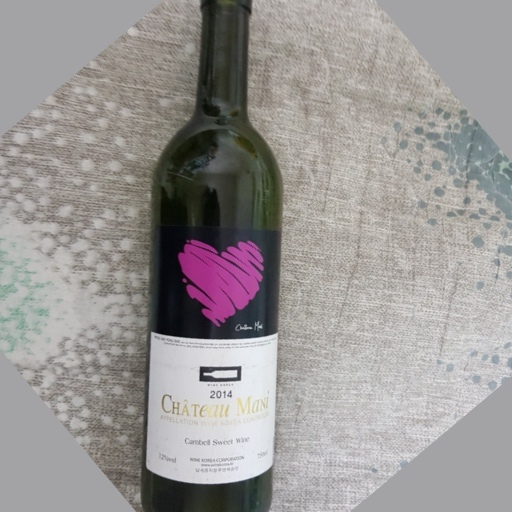Glass_2: (140, 1, 288, 512)
